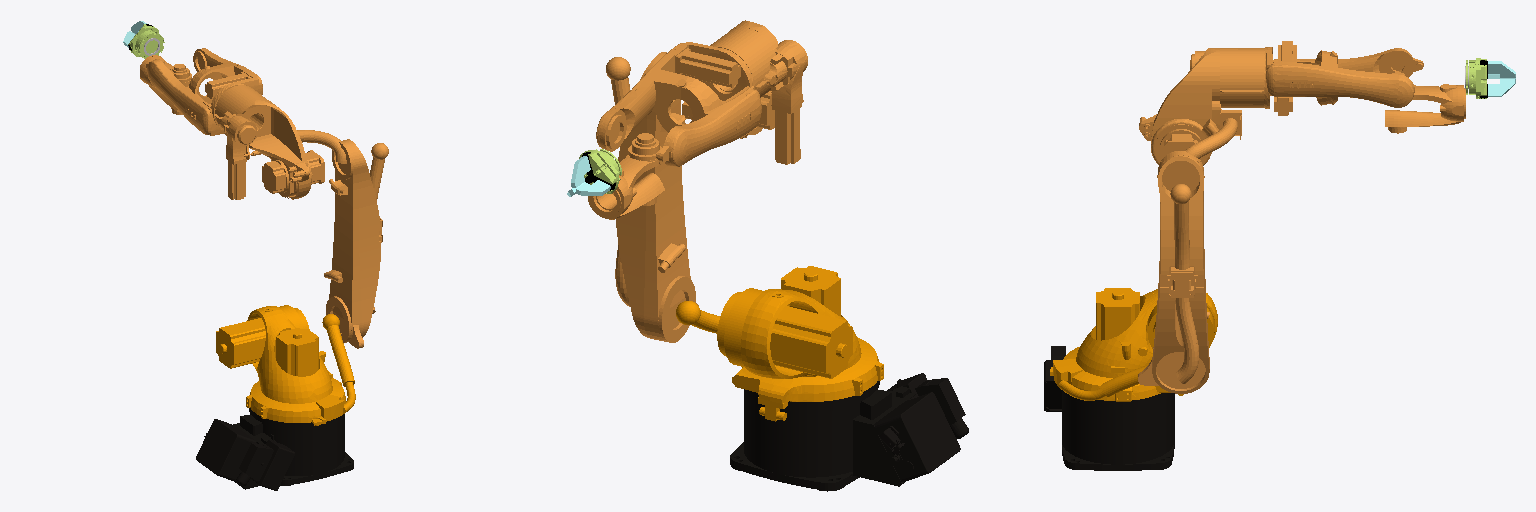
robot.urdf — assembly_kuka_simp:
<?xml version="1.0" encoding="utf-8"?>

<robot name="assembly_kuka_simp">

  <material name="orange">
    <color rgba="0.933 0.635 0.309 1"/>
  </material>

  <material name="black">
    <color rgba="0.121 0.109 0.098 1"/>
  </material>

  <material name="platinum">
    <color rgba="0.835 0.815 0.803 1"/>
  </material>


  <link name="base_link">
    <inertial>
      <origin
        xyz="-0.001558 0.0 0.1124"
        rpy="0 0 0" />
      <mass
        value="48.9475" />
      <inertia
        ixx="0.53585"
        ixy="0.0"
        ixz="-0.00395"
        iyy="0.54899"
        iyz="-0.00001"
        izz="0.66970" />
    </inertial>
    <visual>
      <origin
        xyz="0 0 0"
        rpy="0 0 0" />
      <geometry>
        <mesh
          filename="package://assembly_kuka_simp/meshes/base_link.dae" />
      </geometry>
      <material name="black"/>
    </visual>
    <collision>
      <origin
        xyz="0 0 0"
        rpy="0 0 0" />
      <geometry>
        <mesh
          filename="package://assembly_kuka_simp/meshes/base_link.dae" />
      </geometry>
    </collision>
  </link>

  <link name="link_1">
    <inertial>
      <origin
        xyz="0.067038 -0.01448 0.09133"
        rpy="0 0 0" />
      <mass
        value="28.2722" />
      <inertia
        ixx="0.2912"
        ixy="-0.04226"
        ixz="0.1367"
        iyy="0.4828"
        iyz="-0.03051"
        izz="0.4624" />
    </inertial>
    <visual>
      <origin
        xyz="0 0 0"
        rpy="0 0 0" />
      <geometry>
        <mesh
          filename="package://assembly_kuka_simp/meshes/link_1.dae" />
      </geometry>
      <material
        name="">
        <color
          rgba="0.97 0.64 0.04 1" />
      </material>
    </visual>
    <collision>
      <origin
        xyz="0 0 0"
        rpy="0 0 0" />
      <geometry>
        <mesh
          filename="package://assembly_kuka_simp/meshes/link_1.dae" />
      </geometry>
    </collision>
  </link>
  
  <joint name="base_to_link1" type="continuous">
    <origin
      xyz="0 0 0.2255"
      rpy="0 0 1.5686" />
    <parent link="base_link" />
    <child link="link_1" />
    <axis xyz="0 0 1" />
    <limit
      lower="-2.7053"
      upper="2.7053"
      effort="0"
      velocity="2.6878" />
  </joint>

  <link
    name="link_2">
    <inertial>
      <origin
        xyz="0.001942 -0.1737 0.26701"
        rpy="0 0 0" />
      <mass
        value="20.7503" />
      <inertia
        ixx="0.70458"
        ixy="-0.00057"
        ixz="0.00592"
        iyy="0.71816"
        iyz="-0.02276"
        izz="0.05679" />
    </inertial>
    <visual>
      <origin
        xyz="0 -0.27055 0"
        rpy="0 0 0" />
      <geometry>
        <mesh
          filename="package://assembly_kuka_simp/meshes/link_2.dae" />
      </geometry>
      <material
        name="">
        <color
          rgba="0.933 0.635 0.309 1" />
      </material>
    </visual>
    <collision>
      <origin
        xyz="0 -0.27055 0"
        rpy="0 0 0" />
      <geometry>
        <mesh
          filename="package://assembly_kuka_simp/meshes/link_2.dae" />
      </geometry>
    </collision>
  </link>

  <joint
    name="link1_to_link2"
    type="continuous">
    <origin
      xyz="0.18106 -0.002 0.178"
      rpy="0 0 0" />
    <parent
      link="link_1" />
    <child
      link="link_2" />
    <axis
      xyz="0 1 0" />
    <limit
      lower="-3.1416"
      upper="1.1345"
      effort="0"
      velocity="2.6878" />
  </joint>

  <link
    name="link_3">
    <inertial>
      <origin
        xyz="0.086086 -0.024557 0.10627"
        rpy="0 0 0" />
      <mass
        value="16.6002" />
      <inertia
        ixx="0.18666"
        ixy="0.04216"
        ixz="0.08152"
        iyy="0.23653"
        iyz="0.04962"
        izz="0.18575" />
    </inertial>
    <visual>
      <origin
        xyz="0 -0.13635 0"
        rpy="0 0 0" />
      <geometry>
        <mesh
          filename="package://assembly_kuka_simp/meshes/link_3.dae" />
      </geometry>
      <material
        name="">
        <color
          rgba="0.933 0.635 0.309 1" />
      </material>
    </visual>
    <collision>
      <origin
        xyz="0 -0.13635 0"
        rpy="0 0 0" />
      <geometry>
        <mesh
          filename="package://assembly_kuka_simp/meshes/link_3.dae" />
      </geometry>
    </collision>
  </link>

  <joint
    name="link2_to_link3"
    type="continuous">
    <origin
      xyz="0.0011745 0.002 0.59705"
      rpy="0 0 0" />
    <parent
      link="link_2" />
    <child
      link="link_3" />
    <axis
      xyz="0 1 0" />
    <limit
      lower="-0.2618"
      upper="2.7576"
      effort="0"
      velocity="3.9794" />
  </joint>

  <link
    name="link_4">
    <inertial>
      <origin
        xyz="0.19879 -0.00067831 0.0004912"
        rpy="0 0 0" />
      <mass
        value="8.6632" />
      <inertia
        ixx="0.08299"
        ixy="-0.00040"
        ixz="-0.00075"
        iyy="0.13232"
        iyz="-0.01710"
        izz="0.18882" />
    </inertial>
    <visual>
      <origin
        xyz="0 0 0"
        rpy="0 0 0" />
      <geometry>
        <mesh
          filename="package://assembly_kuka_simp/meshes/link_4.dae" />
      </geometry>
      <material
        name="">
        <color
          rgba="0.933 0.635 0.309 1" />
      </material>
    </visual>
    <collision>
      <origin
        xyz="0 0 0"
        rpy="0 0 0" />
      <geometry>
        <mesh
          filename="package://assembly_kuka_simp/meshes/link_4.dae" />
      </geometry>
    </collision>
  </link>

  <joint
    name="link3_to_link4"
    type="continuous">
    <origin
      xyz="0.237 0 0.17"
      rpy="0 0 0" />
    <parent
      link="link_3" />
    <child
      link="link_4" />
    <axis
      xyz="1 0 0" />
    <limit
      lower="-6.1087"
      upper="-6.1087"
      effort="0"
      velocity="5.969" />
  </joint>

  <link
    name="link_5">
    <inertial>
      <origin
        xyz="0.075375 -0.0070921 0"
        rpy="0 0 0" />
      <mass
        value="2.7234" />
<!-- INERCIAS DE ESTE LINK INCORRECTAS, CORREGIR -->
      <inertia
        ixx="0.08299"
        ixy="-0.00040"
        ixz="-0.00075"
        iyy="0.13232"
        iyz="-0.01710"
        izz="0.18882" />
    </inertial>
    <visual>
      <origin
        xyz="0 0 -0.082318"
        rpy="1.5708 0 0" />
      <geometry>
        <mesh
          filename="package://assembly_kuka_simp/meshes/link_5.dae" />
      </geometry>
      <material
        name="">
        <color
          rgba="0.933 0.635 0.309 1" />
      </material>
    </visual>
    <collision>
      <origin
        xyz="0 0 -0.082318"
        rpy="1.5708 0 0" />
      <geometry>
        <mesh
          filename="package://assembly_kuka_simp/meshes/link_5.dae" />
      </geometry>
    </collision>
  </link>
  <joint
    name="link4_to_link5"
    type="continuous">
    <origin
      xyz="0.383 0.005 0"
      rpy="0 0 0" />
    <parent
      link="link_4" />
    <child
      link="link_5" />
    <axis
      xyz="0 0 1" />
    <limit
      lower="-2.2689"
      upper="2.2689"
      effort="0"
      velocity="6.7021" />
  </joint>

  <link
    name="link_6">
    <inertial>
      <origin
        xyz="0 0 0"
        rpy="0 0 0" />
      <mass
        value="0.05109" />
      <inertia
        ixx="0.0000431"
        ixy="0.0"
        ixz="0.0"
        iyy="0.0000224"
        iyz="0.0"
        izz="0.0000227" />
    </inertial>
    <visual>
      <origin
        xyz="0 0 0"
        rpy="0 0 0" />
      <geometry>
        <mesh
          filename="package://assembly_kuka_simp/meshes/link_6.dae" />
      </geometry>
      <material name="platinum"/>
    </visual>
    <collision>
      <origin
        xyz="0 0 0"
        rpy="0 0 0" />
      <geometry>
        <mesh
          filename="package://assembly_kuka_simp/meshes/link_6.dae" />
      </geometry>
    </collision>
  </link>

  <joint
    name="link5_to_link6"
    type="continuous">
    <origin
      xyz="0.193 -0.003 0"
      rpy="1.3396 0 0" />
    <parent
      link="link_5" />
    <child
      link="link_6" />
    <axis
      xyz="1 0 0" />
    <limit
      lower="-6.1087"
      upper="6.1087"
      effort="0"
      velocity="12.584" />
  </joint>
	
  <!-- ******************** GRIPPER *********************-->
	<link
    name="base_link_grp">
    <inertial>
      <origin
        xyz="-0.12444 0.015119 0.11802"
        rpy="0 0 0" />
      <mass
        value="4.3869E-05" />
      <inertia
        ixx="2.7228E-08"
        ixy="3.0486E-12"
        ixz="-9.7953E-11"
        iyy="5.2891E-08"
        iyz="-8.2542E-13"
        izz="2.5932E-08" />
    </inertial>
    <visual>
      <origin
        xyz="0 0 0"
        rpy="0 0 0" />
      <geometry>
        <mesh
          filename="package://gripper_schunk_kuka/meshes/base_link_grp.STL" />
      </geometry>
      <material
        name="">
        <color
          rgba="0.79 0.9 0.48 1" />
      </material>
    </visual>
    <collision>
      <origin
        xyz="0 0 0"
        rpy="0 0 0" />
      <geometry>
        <mesh
          filename="package://gripper_schunk_kuka/meshes/base_link_grp.STL" />
      </geometry>
    </collision>
  </link>
  
  <joint
    name="link6_to_bgrp"
    type="fixed">
    <origin
      xyz="0.005 0 0"
      rpy="0 0 0" />
    <parent
      link="link_6" />
    <child
      link="base_link_grp" />
    <axis
      xyz="1 0 0" />
    <limit
      lower="-6.1087"
      upper="6.1087"
      effort="0"
      velocity="12.584" />
  </joint>
  
  <link
    name="structure_grp">
    <inertial>
      <origin
        xyz="-0.00021291 0.023532 3.5559E-05"
        rpy="0 0 0" />
      <mass
        value="0.00035228" />
      <inertia
        ixx="3.1958E-07"
        ixy="-1.5683E-10"
        ixz="-2.4056E-09"
        iyy="5.08E-07"
        iyz="-5.9261E-10"
        izz="3.2245E-07" />
    </inertial>
    <visual>
      <origin
        xyz="0 0 0"
        rpy="0 0 0" />
      <geometry>
        <mesh
          filename="package://gripper_schunk_kuka/meshes/structure_grp.STL" />
      </geometry>
      <material
        name="">
        <color
          rgba="0.79 0.9 0.48 1" />
      </material>
    </visual>
    <collision>
      <origin
        xyz="0 0 0"
        rpy="0 0 0" />
      <geometry>
        <mesh
          filename="package://gripper_schunk_kuka/meshes/structure_grp.STL" />
      </geometry>
    </collision>
  </link>
  
  <joint
    name="base_to_str_grp"
    type="fixed">
    <origin
      xyz="0.0063 0 0"
      rpy="0 0 0" />
    <parent
      link="base_link_grp" />
    <child
      link="structure_grp" />
    <axis
      xyz="1 0 0" />
  </joint>

  <link
    name="guide_1_grp">
    <inertial>
      <origin
        xyz="0 0.009 0.027502"
        rpy="0 0 0" />
      <mass
        value="2.1395E-05" />
      <inertia
        ixx="5.8843E-09"
        ixy="1.1603E-18"
        ixz="4.0999E-18"
        iyy="6.0491E-09"
        iyz="-7.7428E-11"
        izz="1.5164E-09" />
    </inertial>
    <visual>
      <origin
        xyz="0 0 0"
        rpy="0 0 0" />
      <geometry>
        <mesh
          filename="package://gripper_schunk_kuka/meshes/guide_1_grp.STL" />
      </geometry>
      <material
        name="">
        <color
          rgba="0 0 0 1" />
      </material>
    </visual>
    <collision>
      <origin
        xyz="0 0 0"
        rpy="0 0 0" />
      <geometry>
        <mesh
          filename="package://gripper_schunk_kuka/meshes/guide_1_grp.STL" />
      </geometry>
    </collision>
  </link>
  
  <joint
    name="str_to_g1_grp"
    type="prismatic">
    <origin
      xyz="0.0321 0 -0.0043"
      rpy="3.1416 0 0" />
    <parent
      link="structure_grp" />
    <child
      link="guide_1_grp" />
    <axis
      xyz="0 0 1" />
    <limit
      lower="0"
      upper="0.005"
      effort="0"
      velocity="0.05" />
  </joint>

  <link
    name="guide_2_grp">
    <inertial>
      <origin
        xyz="0 0.00945024176112787 0.0275015665025582"
        rpy="0 0 0" />
      <mass
        value="2.13946053960986E-05" />
      <inertia
        ixx="5.88431731307912E-09"
        ixy="1.15652657683827E-18"
        ixz="4.16310883451617E-18"
        iyy="6.04914588284188E-09"
        iyz="-7.74283160161931E-11"
        izz="1.51641396909182E-09" />
    </inertial>
    <visual>
      <origin
        xyz="0 0 0"
        rpy="0 0 0" />
      <geometry>
        <mesh
          filename="package://gripper_schunk_kuka/meshes/guide_1_grp.STL" />
      </geometry>
      <material
        name="">
        <color
          rgba="0 0 0 1" />
      </material>
    </visual>
    <collision>
      <origin
        xyz="0 0 0"
        rpy="0 0 0" />
      <geometry>
        <mesh
          filename="package://gripper_schunk_kuka/meshes/guide_1_grp.STL" />
      </geometry>
    </collision>
  </link>

  <joint
    name="str_to_g2_grp"
    type="prismatic">
		#-0.0037239 0.0321 0.00215
    <origin
      xyz="0.0321 -3.724E-3 2.15E-3"
      rpy="1.0472 0 0" />
    <parent
      link="structure_grp" />
    <child
      link="guide_2_grp" />
    <axis
      xyz="0 0 1" />
    <limit
      lower="0"
      upper="0.005"
      effort="0"
      velocity="0.05" />
  </joint>

  <link
    name="guide_3_grp">
    <inertial>
      <origin
        xyz="0.0087239 0.0094502 0.025291"
        rpy="0 0 0" />
      <mass
        value="2.1395E-05" />
      <inertia
        ixx="5.8843E-09"
        ixy="1.1603E-18"
        ixz="4.0999E-18"
        iyy="6.0491E-09"
        iyz="-7.7428E-11"
        izz="1.5164E-09" />
    </inertial>
    <visual>
      <origin
        xyz="0 0 0"
        rpy="0 0 0" />
      <geometry>
        <mesh
          filename="package://gripper_schunk_kuka/meshes/guide_1_grp.STL" />
      </geometry>
      <material
        name="">
        <color
          rgba="0 0 0 1" />
      </material>
    </visual>
    <collision>
      <origin
        xyz="0 0 0"
        rpy="0 0 0" />
      <geometry>
        <mesh
          filename="package://gripper_schunk_kuka/meshes/guide_1_grp.STL" />
      </geometry>
    </collision>
  </link>

  <joint
    name="str_to_g3_grp"
    type="prismatic">
		#-0.0037239 0.0321 0.00215
    <origin
      xyz="0.0321 3.724E-3 2.15E-3"
      rpy="5.236 0 0" />
    <parent
      link="structure_grp" />
    <child
      link="guide_3_grp" />
    <axis
      xyz="0 0 1" />
    <limit
      lower="0"
      upper="0.005"
      effort="0"
      velocity="0.05" />
  </joint>

  <link
    name="finger1_grp">
    <inertial>
      <origin
        xyz="0.0099787 0.037092 0.006"
        rpy="0 0 0" />
      <mass
        value="0.03384" />
      <inertia
        ixx="1.5168E-05"
        ixy="5.5629E-06"
        ixz="5.5057E-21"
        iyy="6.9613E-06"
        iyz="-2.9646E-21"
        izz="2.1317E-05" />
    </inertial>
    <visual>
      <origin
        xyz="0 0 0"
        rpy="0 0 0" />
      <geometry>
        <mesh
          filename="package://gripper_schunk_kuka/meshes/finger1_grp.STL" />
      </geometry>
      <material
        name="">
        <color
          rgba="0.75294 1 1 1" />
      </material>
    </visual>
    <collision>
      <origin
        xyz="0 0 0"
        rpy="0 0 0" />
      <geometry>
        <mesh
          filename="package://gripper_schunk_kuka/meshes/finger1_grp.STL" />
      </geometry>
    </collision>
  </link>

  <joint
    name="g1_to_f1_grp"
    type="fixed">
  #0.006 0.0209 0.0165  
  <origin
      xyz="0.0209 -0.0053 0.0165"
      rpy="0 1.5708 0" />
    <parent
      link="guide_1_grp" />
    <child
      link="finger1_grp" />
    <axis
      xyz="0 0 0" />
  </joint>

  <link
    name="finger2_grp">
    <inertial>
      <origin
        xyz="0.0099787 0.037092 0.006"
        rpy="0 0 0" />
      <mass
        value="0.03384" />
      <inertia
        ixx="1.5168E-05"
        ixy="5.5629E-06"
        ixz="4.768E-23"
        iyy="6.9613E-06"
        iyz="1.4988E-22"
        izz="2.1317E-05" />
    </inertial>
    <visual>
      <origin
        xyz="0 0 0"
        rpy="0 0 0" />
      <geometry>
        <mesh
          filename="package://gripper_schunk_kuka/meshes/finger1_grp.STL" />
      </geometry>
      <material
        name="">
        <color
          rgba="0.75294 1 1 1" />
      </material>
    </visual>
    <collision>
      <origin
        xyz="0 0 0"
        rpy="0 0 0" />
      <geometry>
        <mesh
          filename="package://gripper_schunk_kuka/meshes/finger1_grp.STL" />
      </geometry>
    </collision>
  </link>

  <joint
    name="g2_to_f2_grp"
    type="fixed">
  <origin
      xyz="0.0209 -0.0053 0.0165"
      rpy="0 1.5708 0" />
    <parent
      link="guide_2_grp" />
    <child
      link="finger2_grp" />
    <axis
      xyz="0 0 0" />
  </joint>

  <link
    name="finger3_grp">
    <inertial>
      <origin
        xyz="0.0099787 0.037092 0.006"
        rpy="0 0 0" />
      <mass
        value="0.03384" />
      <inertia
        ixx="1.5168E-05"
        ixy="5.5629E-06"
        ixz="-6.7763E-21"
        iyy="6.9613E-06"
        iyz="4.6587E-21"
        izz="2.1317E-05" />
    </inertial>
    <visual>
      <origin
        xyz="0 0 0"
        rpy="0 0 0" />
      <geometry>
        <mesh
          filename="package://gripper_schunk_kuka/meshes/finger1_grp.STL" />
      </geometry>
      <material
        name="">
        <color
          rgba="0.75294 1 1 1" />
      </material>
    </visual>
    <collision>
      <origin
        xyz="0 0 0"
        rpy="0 0 0" />
      <geometry>
        <mesh
          filename="package://gripper_schunk_kuka/meshes/finger1_grp.STL" />
      </geometry>
    </collision>
  </link>

  <joint
    name="g3_to_f3_grp"
    type="fixed">
  <origin
      xyz="0.0209 -0.0053 0.0165"
      rpy="0 1.5708 0" />
    <parent
      link="guide_3_grp" />
    <child
      link="finger3_grp" />
    <axis
      xyz="0 0 0" />
  </joint>

  <!-- This block connects the head_swivel joint to an actuator (motor), which informs both
  simulation and visualization of the robot -->
  <transmission name="trans_b_1">
    <type>transmission_interface/SimpleTransmission</type>
    <actuator name="$motor_b_1">
      <mechanicalReduction>1</mechanicalReduction>
    </actuator>
    <joint name="base_to_link1">
      <hardwareInterface>PositionJointInterface</hardwareInterface>
    </joint>
  </transmission>

  <transmission name="trans_1_2">
    <type>transmission_interface/SimpleTransmission</type>
    <actuator name="$motor_1_2">
      <mechanicalReduction>1</mechanicalReduction>
    </actuator>
    <joint name="link1_to_link2">
      <hardwareInterface>PositionJointInterface</hardwareInterface>
    </joint>
  </transmission>

  <transmission name="trans_2_3">
    <type>transmission_interface/SimpleTransmission</type>
    <actuator name="$motor_2_3">
      <mechanicalReduction>1</mechanicalReduction>
    </actuator>
    <joint name="link2_to_link3">
      <hardwareInterface>PositionJointInterface</hardwareInterface>
    </joint>
  </transmission>

  <transmission name="trans_3_4">
    <type>transmission_interface/SimpleTransmission</type>
    <actuator name="$motor_3_4">
      <mechanicalReduction>1</mechanicalReduction>
    </actuator>
    <joint name="link3_to_link4">
      <hardwareInterface>PositionJointInterface</hardwareInterface>
    </joint>
  </transmission>

  <transmission name="trans_4_5">
    <type>transmission_interface/SimpleTransmission</type>
    <actuator name="$motor_4_5">
      <mechanicalReduction>1</mechanicalReduction>
    </actuator>
    <joint name="link4_to_link5">
      <hardwareInterface>PositionJointInterface</hardwareInterface>
    </joint>
  </transmission>

  <transmission name="trans_5_6">
    <type>transmission_interface/SimpleTransmission</type>
    <actuator name="$motor_5_6">
      <mechanicalReduction>1</mechanicalReduction>
    </actuator>
    <joint name="link5_to_link6">
      <hardwareInterface>PositionJointInterface</hardwareInterface>
    </joint>
  </transmission>

  <link name="world"/>
  <joint name="world_base" type="fixed">
    <parent link="world"/>
    <child link="base_link"/>
    <origin rpy="0 0 0" xyz="0 0 0"/>
  </joint>

  <!-- Gazebo plugin for ROS Control -->
  <gazebo>
    <plugin name="gazebo_ros_control" filename="libgazebo_ros_control.so">
      <robotNamespace>/</robotNamespace>
    </plugin>
  </gazebo>

</robot>

--- Render facts (derived) ---
The picture shows the robot from 3 angles, left to right: view 1: azimuth 30°, elevation 25°; view 2: azimuth 150°, elevation 25°; view 3: azimuth 270°, elevation 25°; orthographic projection.
Model assembly_kuka_simp with 16 links and 15 joints (6 continuous, 3 prismatic, 6 fixed), rooted at world, posed every joint at zero.
Visible links, largest first — view 1: link_1, link_2, base_link, link_3, link_4, link_5; view 2: base_link, link_1, link_4, link_2, link_3, link_5, structure_grp; view 3: link_2, base_link, link_1, link_3, link_4, link_5, structure_grp.
Link boxes in pixels (box(x1,y1,x2,y2)): link_1: box(216, 305, 355, 425); link_2: box(262, 139, 388, 348); base_link: box(196, 408, 353, 490); link_3: box(214, 85, 346, 199); link_4: box(146, 48, 262, 135); link_5: box(140, 55, 191, 114); base_link: box(730, 373, 968, 491); link_1: box(676, 266, 883, 421); link_4: box(596, 42, 761, 166); link_2: box(606, 52, 774, 342); link_3: box(710, 20, 807, 164); link_5: box(588, 133, 664, 219); structure_grp: box(579, 150, 619, 193); link_2: box(1138, 134, 1209, 393); base_link: box(1044, 346, 1174, 470); link_1: box(1050, 288, 1217, 401); link_3: box(1139, 48, 1263, 165); link_4: box(1264, 41, 1423, 115); link_5: box(1385, 72, 1465, 133); structure_grp: box(1469, 58, 1486, 98).
Size in the robot's own frame: 0.8289 by 1.35 by 1.26 metres.
15 mesh visuals loaded from 11 distinct referenced files (4 binary STL, 7 Collada DAE).